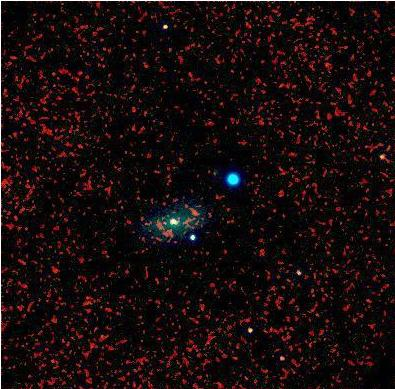star: (176, 198, 206, 228)
